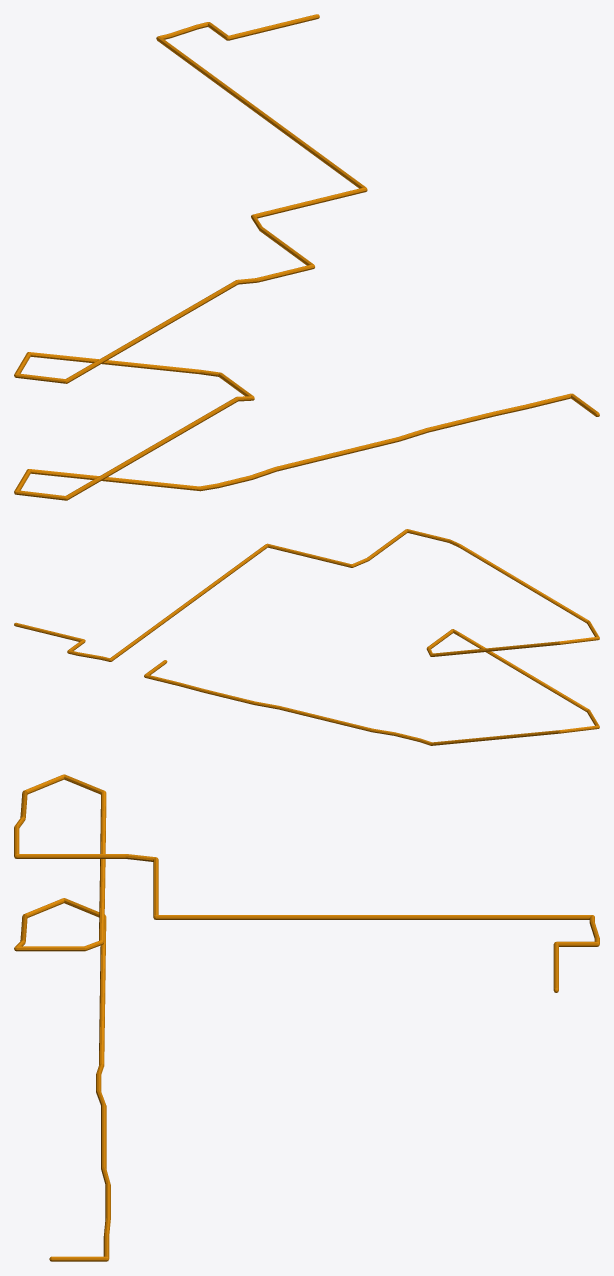
3 views of the same model, one above another, from view 1: azimuth 30°, elevation 25°; view 2: azimuth 150°, elevation 25°; view 3: azimuth 270°, elevation 25° (orthographic). The views are drawn at different scales.
Size of the model in its own units: 2595 by 1020 by 2149.
